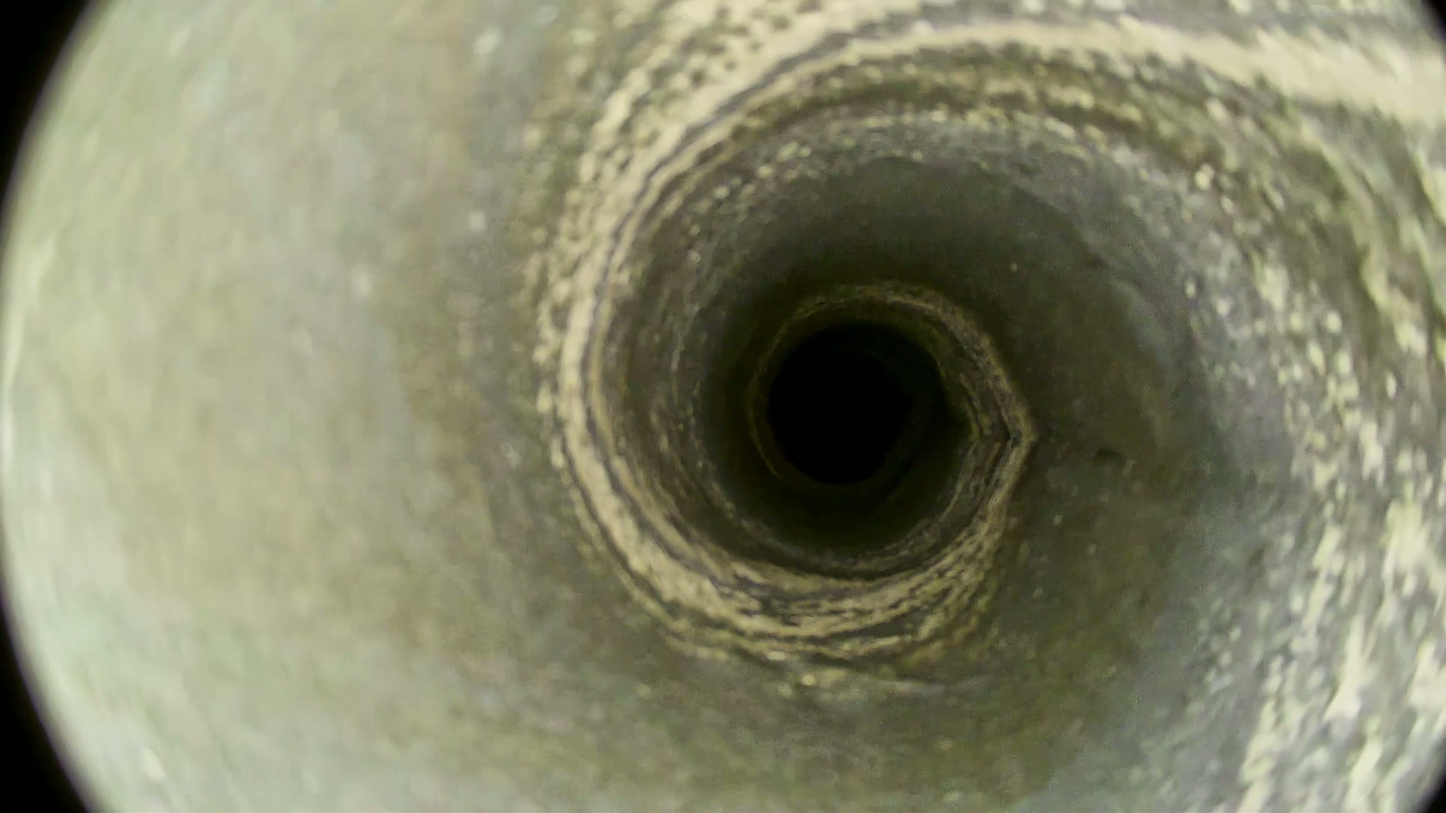hole: (776, 352, 902, 484)
